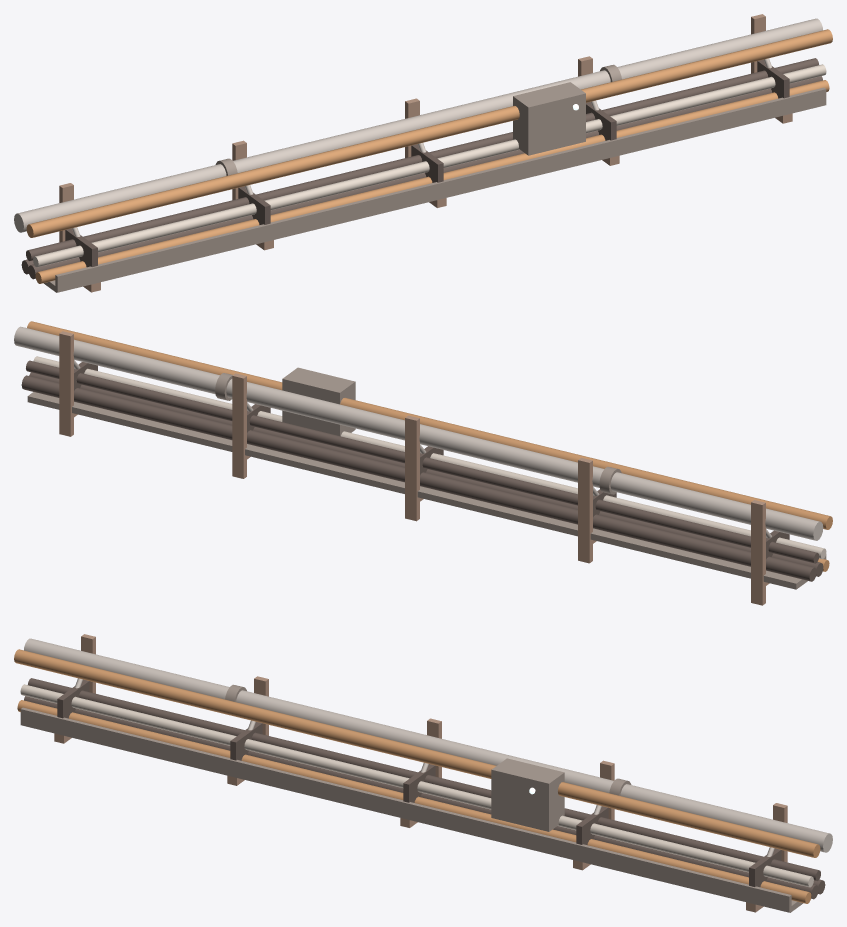
The model's file is P11_cable_bundle_4m.glb.
The picture shows the model from 3 angles, top to bottom: view 1: azimuth 30°, elevation 25°; view 2: azimuth 150°, elevation 25°; view 3: azimuth 330°, elevation 25°; orthographic projection.
Parts seen in each view (by area): view 1: cable (×4), pipe (×2), tray_lip, junction_box, strap (×5); view 2: cable (×4), pipe (×2), cable_tray, wall_bracket (×5), junction_box; view 3: cable (×4), pipe (×2), tray_lip, junction_box, strap (×5).
Part boxes in pixels (x1,y1,x2,y2): cable (×4): (26,58,829,283); pipe (×2): (14,18,832,237); tray_lip: (55,87,826,292); junction_box: (513,82,585,155); strap (×5): (65,59,789,267); cable (×4): (21,356,826,581); pipe (×2): (14,321,832,540); cable_tray: (27,392,807,589); wall_bracket (×5): (59,331,765,605); junction_box: (282,367,355,436); cable (×4): (17,678,820,903); pipe (×2): (14,638,832,857); tray_lip: (20,707,791,912); junction_box: (491,758,564,831); strap (×5): (57,679,781,887).
Bounding box in the file's own units: 4.16 × 0.5 × 0.325.
